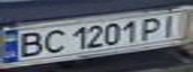0: (103, 20, 124, 47)
1: (66, 24, 90, 52), (118, 18, 142, 43)
2: (84, 21, 106, 50)
B: (9, 29, 48, 60)
C: (36, 27, 69, 56)
I: (157, 11, 184, 37)
P: (136, 15, 169, 40)
